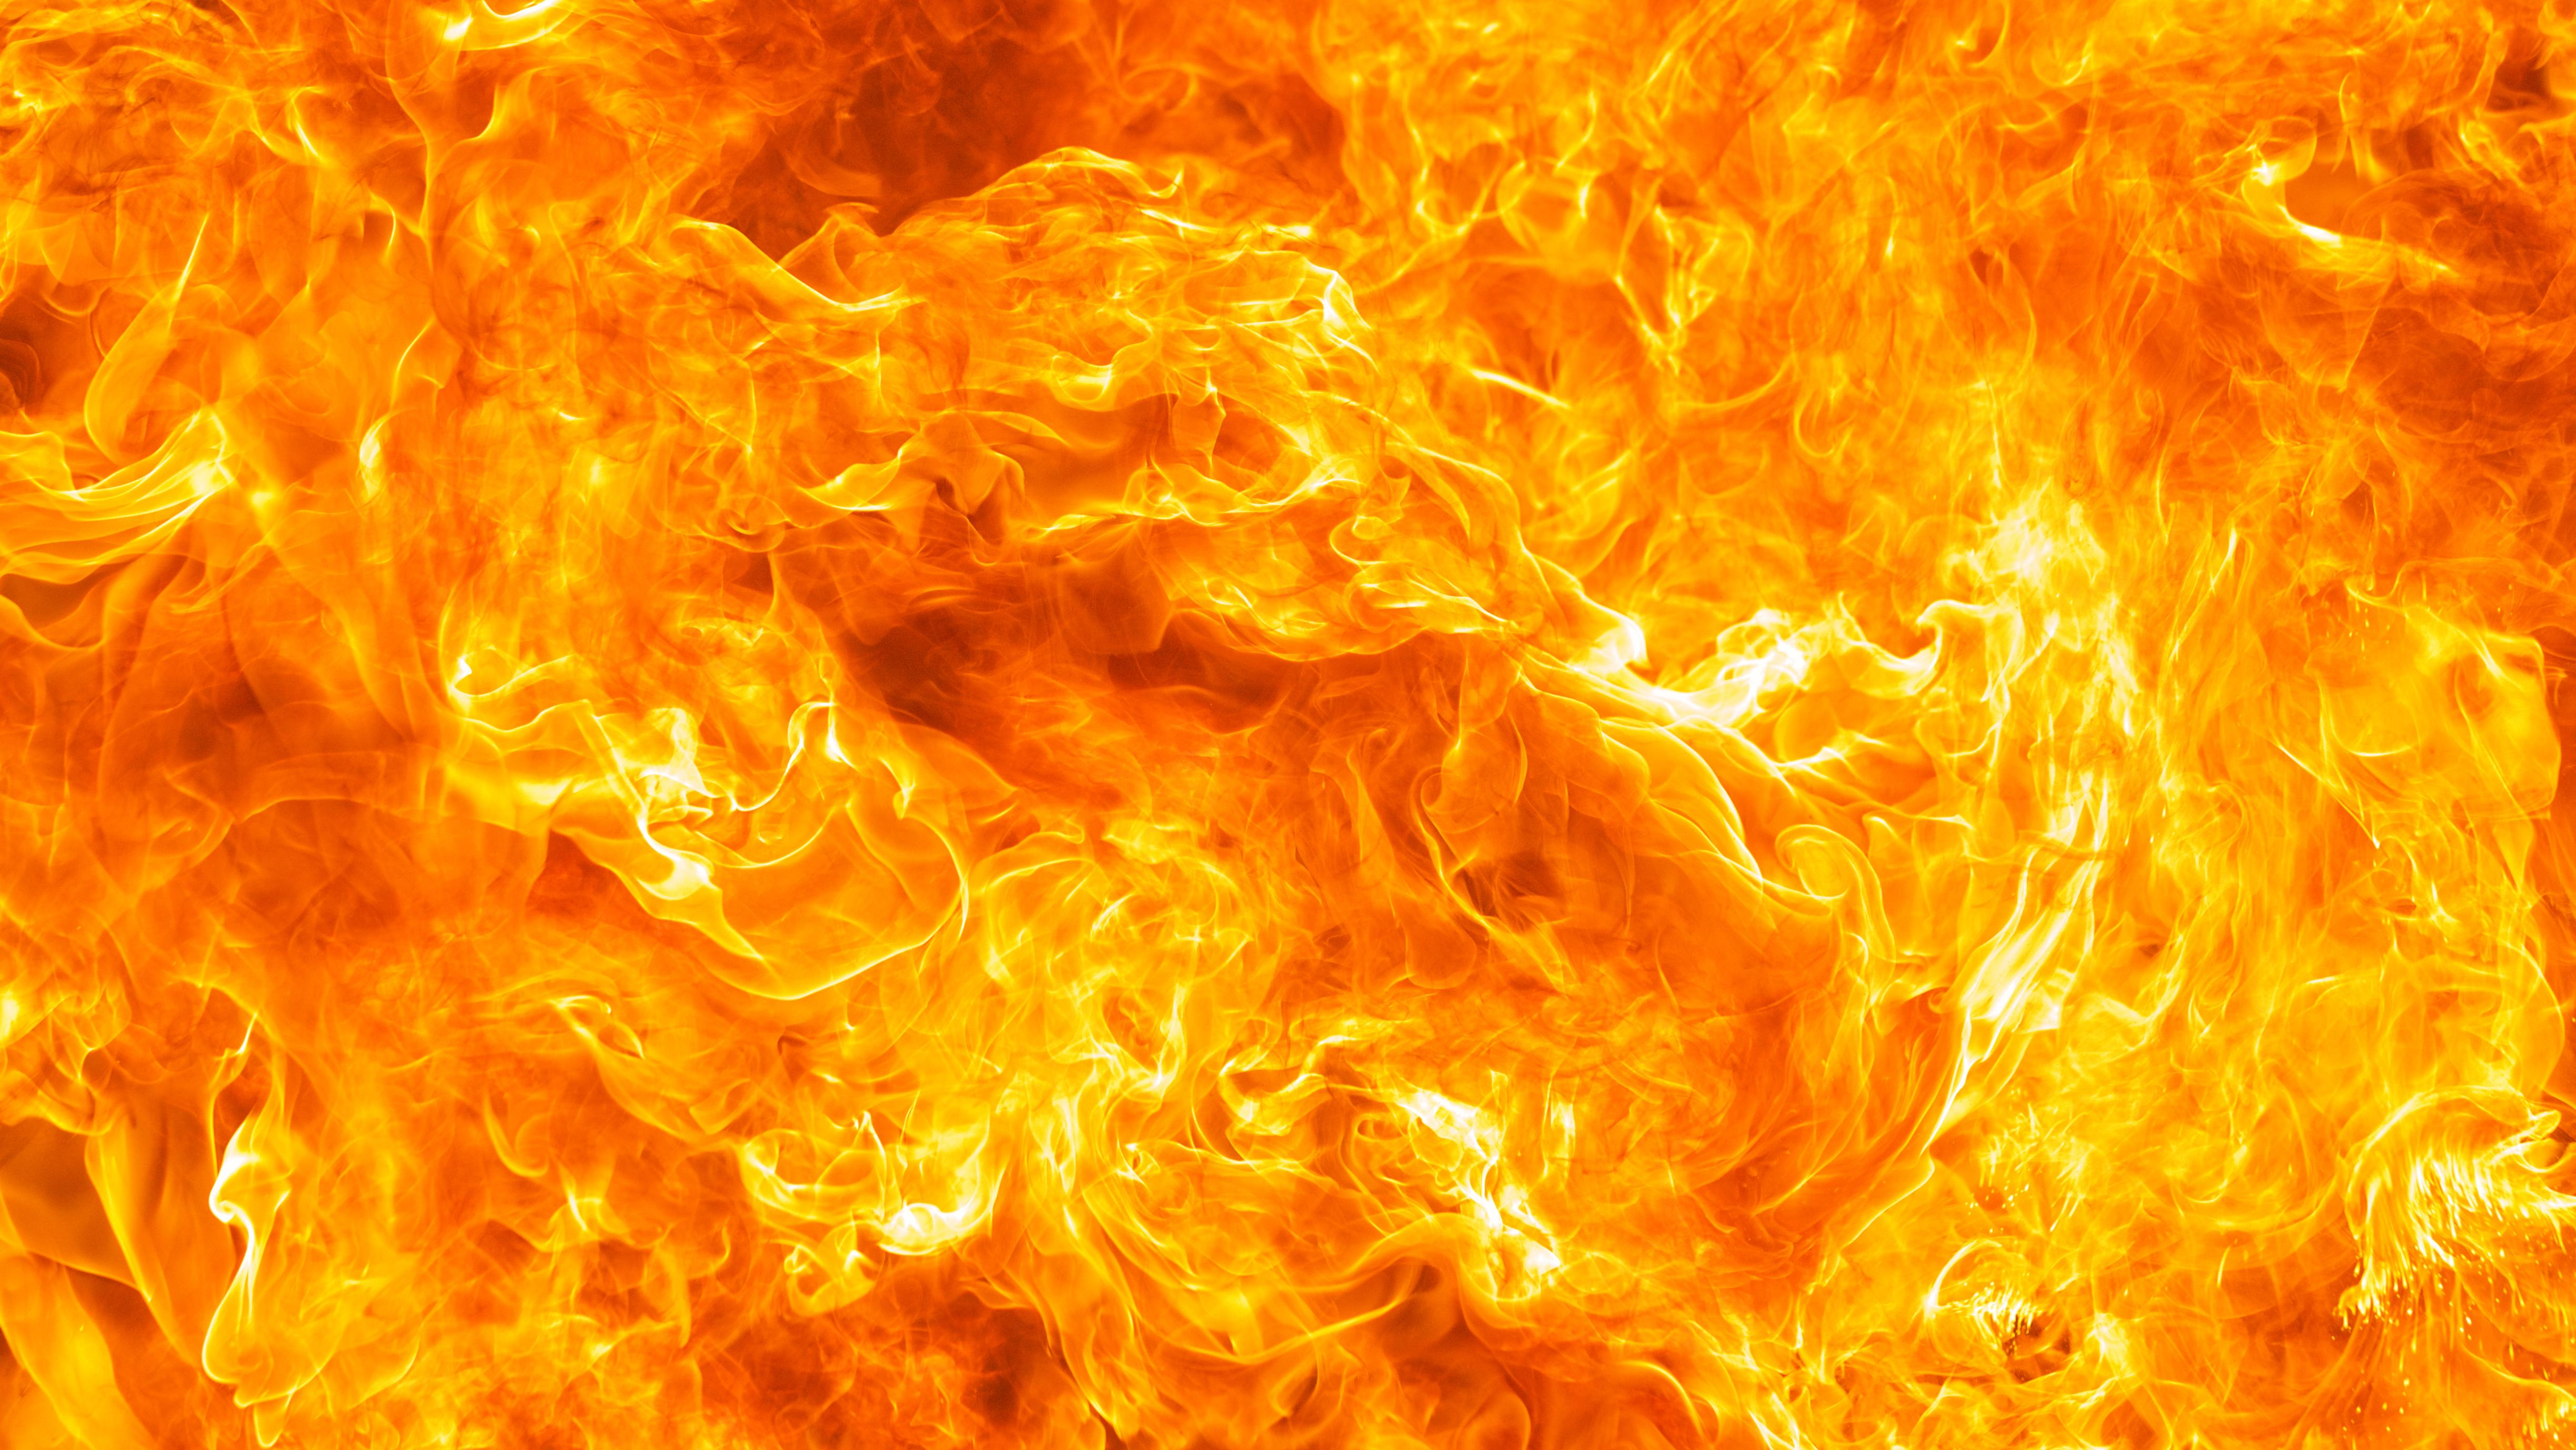Fire: (4, 2, 2576, 1450)
